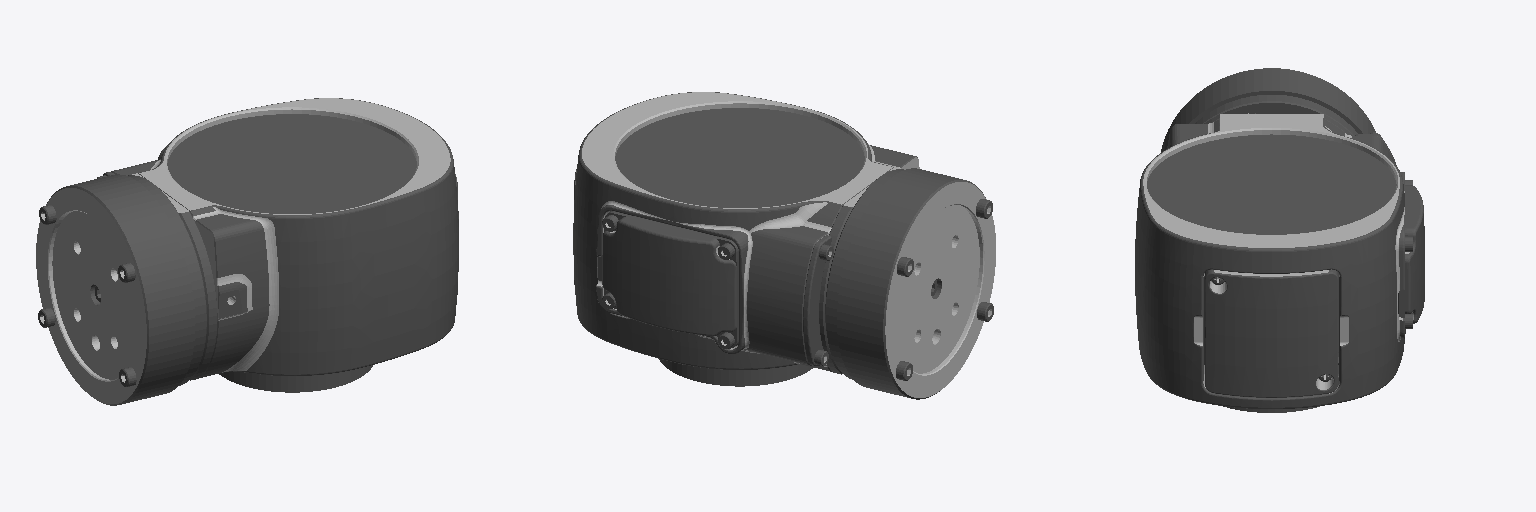
3 views of the same model, side by side, from view 1: azimuth 30°, elevation 25°; view 2: azimuth 150°, elevation 25°; view 3: azimuth 270°, elevation 25° (orthographic).
Parts seen in each view (by area): view 1: MeshBody1; view 2: MeshBody1; view 3: MeshBody1.
Part boxes in pixels (bbox=[...]): MeshBody1: bbox=[36, 98, 458, 405]; MeshBody1: bbox=[573, 92, 995, 399]; MeshBody1: bbox=[1135, 68, 1424, 412].
Bounding box in the file's own units: 123 × 70.25 × 86.98.